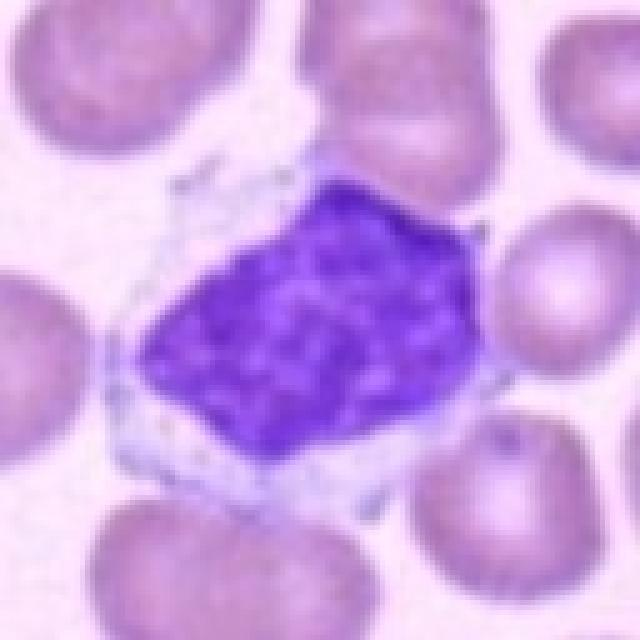lympho: (95, 138, 512, 538)
